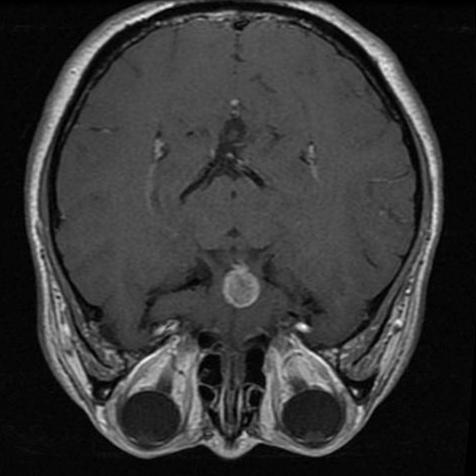Tumour-Pituitary: (224, 264, 268, 312)
